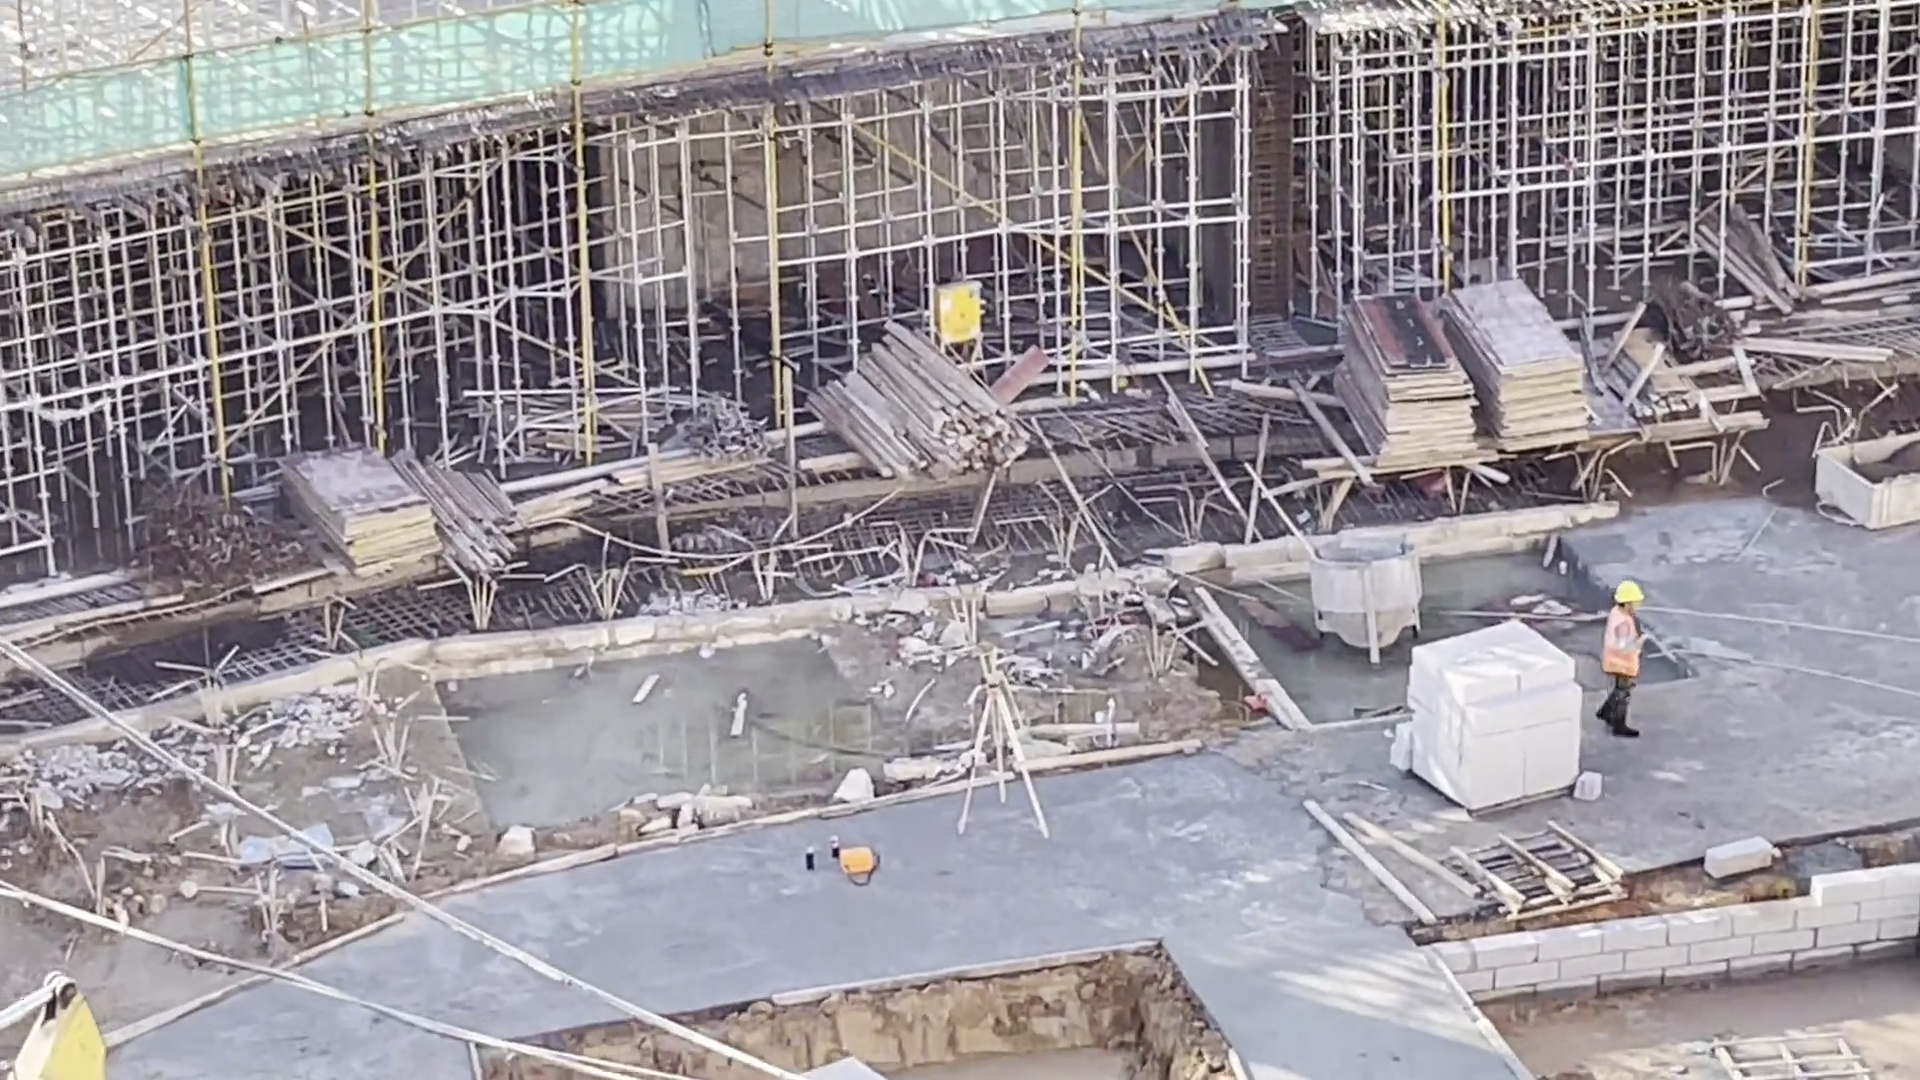board: (1325, 287, 1482, 475), (1440, 275, 1595, 453), (281, 441, 454, 587)
brick: (1402, 613, 1589, 812)
ebox: (936, 278, 987, 358)
helmet: (1611, 579, 1646, 604)
hopper: (1308, 532, 1425, 661), (1803, 428, 1920, 525)
person: (1596, 574, 1648, 741)
vest: (1601, 605, 1642, 678)
wood: (801, 317, 1029, 489), (447, 456, 526, 595)
